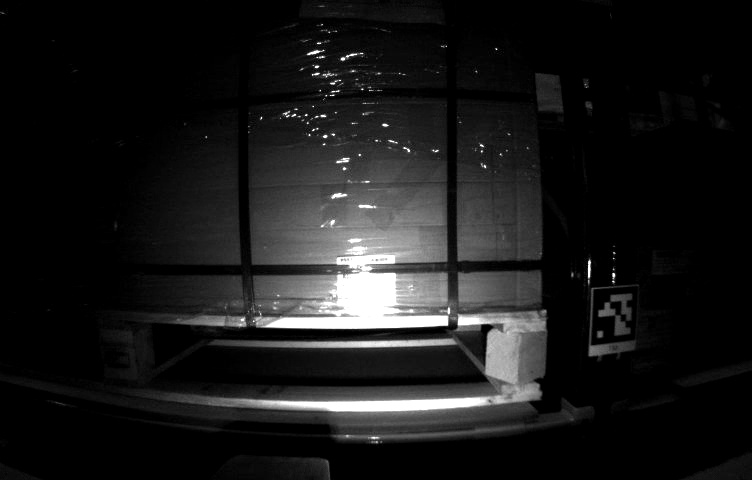True Barcode: (336, 259, 396, 307)
